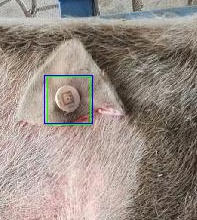text: (47, 76, 90, 124)
